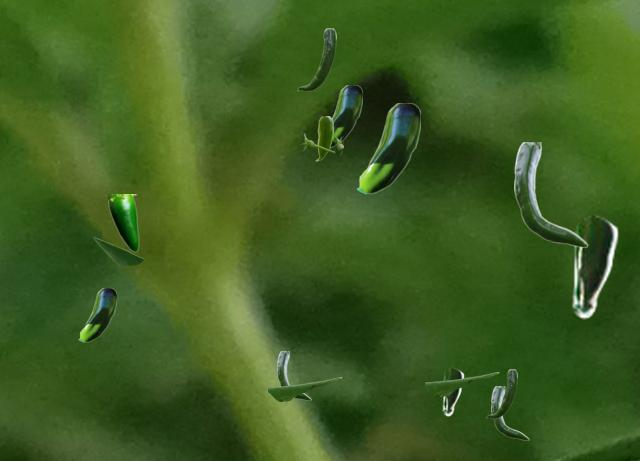green_chili: (514, 142, 587, 246), (356, 103, 419, 193), (569, 214, 618, 318), (297, 28, 335, 90), (78, 288, 115, 341), (491, 386, 528, 439), (332, 85, 361, 147), (108, 194, 138, 251), (277, 351, 310, 399), (486, 369, 516, 417), (441, 367, 463, 415), (315, 116, 332, 160)
